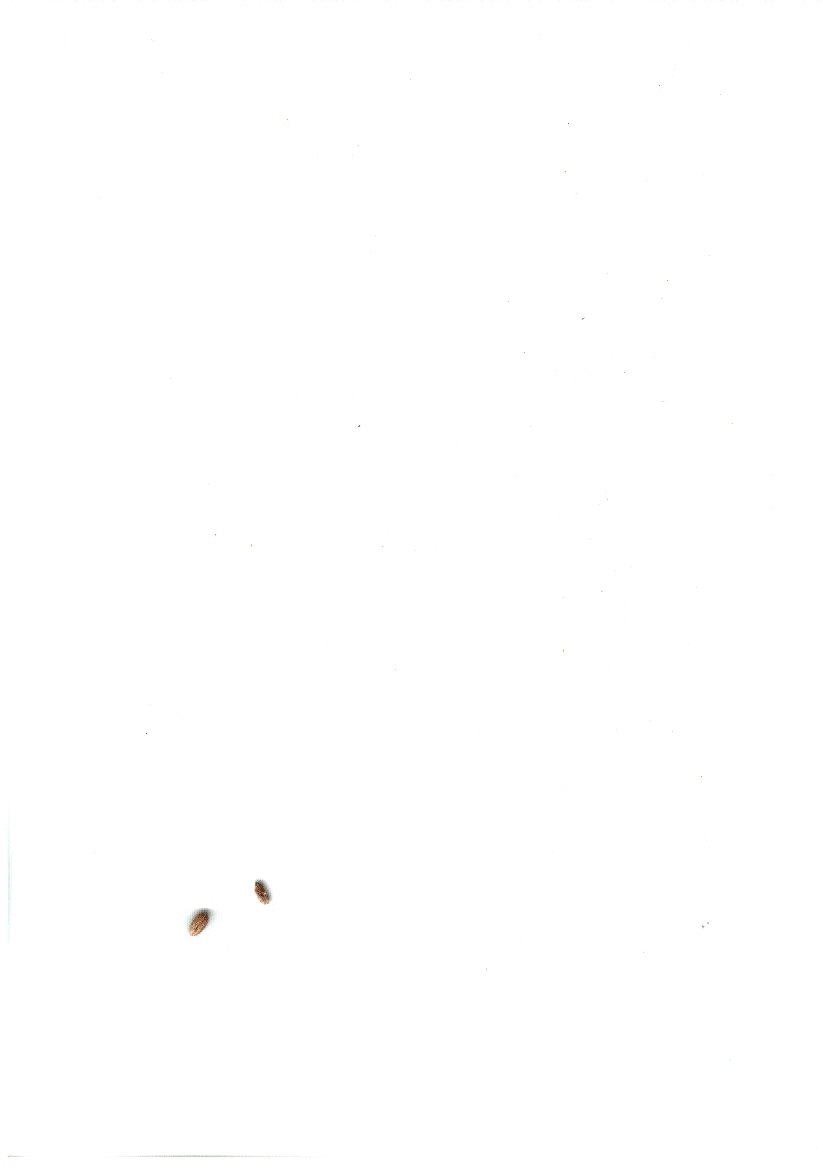grains: (183, 901, 218, 946), (245, 871, 280, 912)
